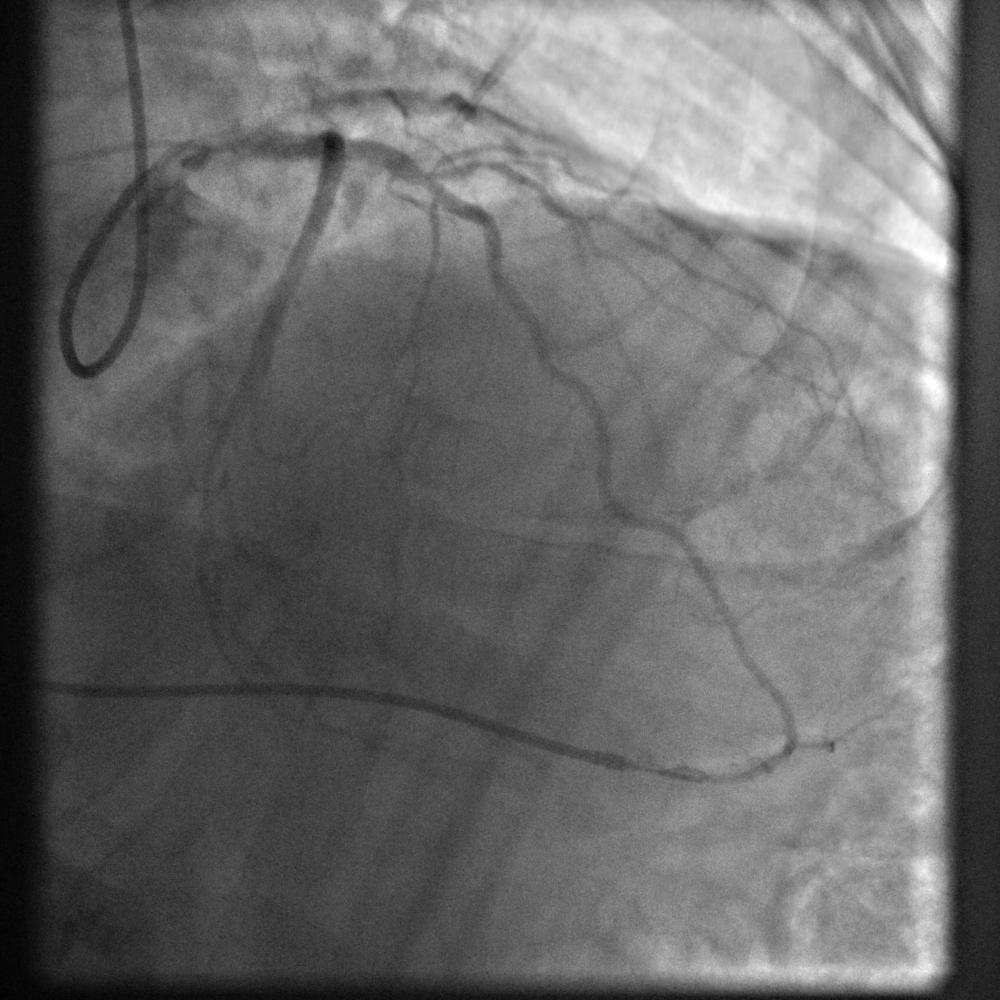Stenosis: (406, 150, 472, 193)
